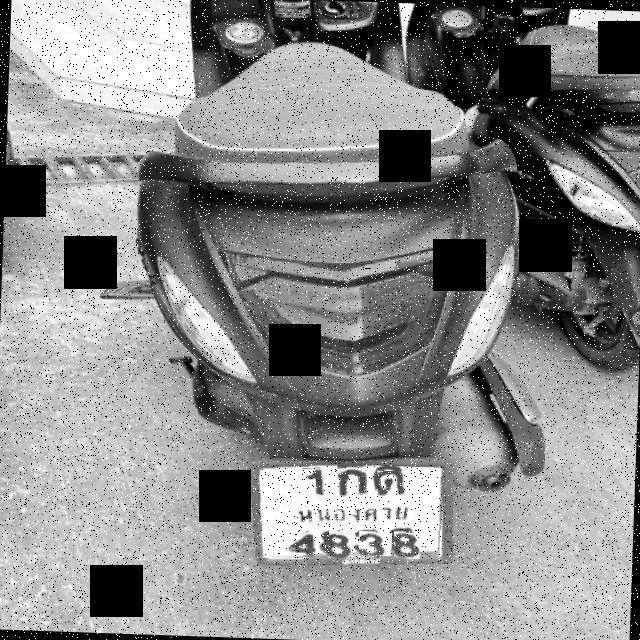letters: (336, 464, 371, 498), (376, 470, 411, 501), (392, 530, 420, 562), (282, 530, 316, 556), (358, 530, 392, 556), (301, 468, 328, 500), (328, 530, 352, 564)
license-plate: (258, 465, 443, 558)
province: (280, 500, 424, 526)
